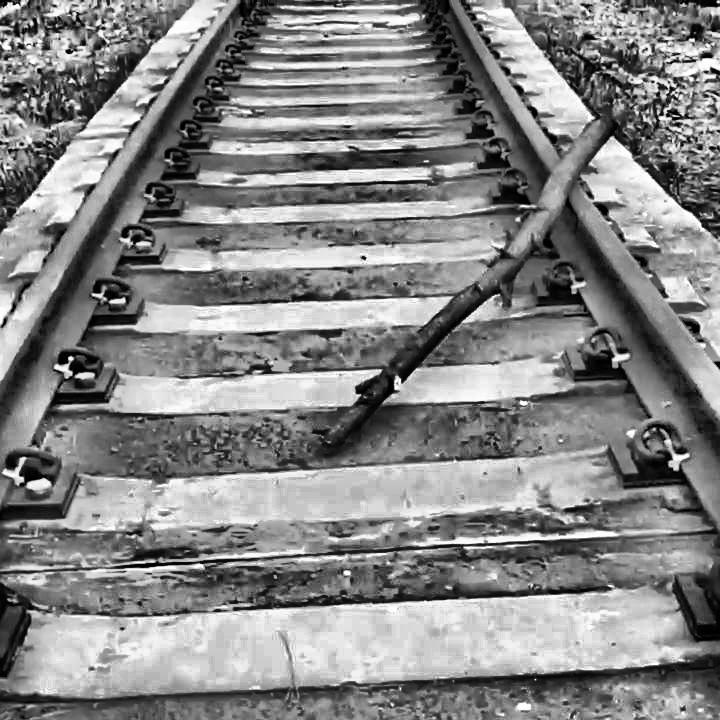Trash: (313, 99, 650, 463)
